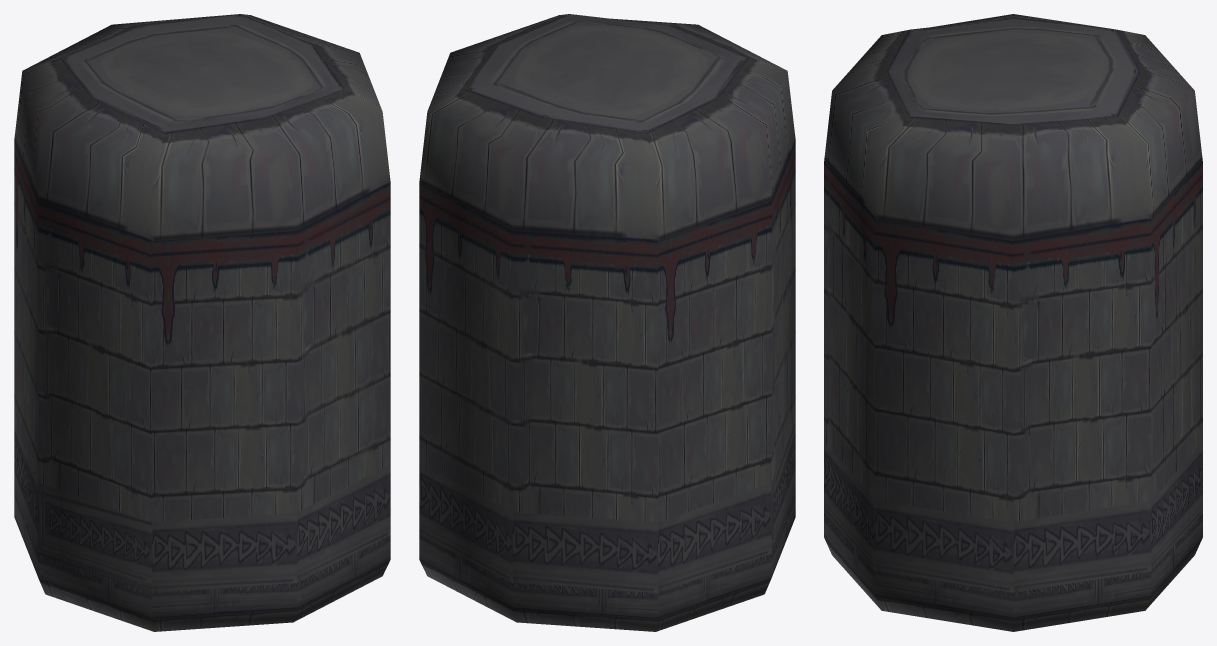
The model's file is Pillar_Round_02.glb.
3 views of the same model, side by side, from view 1: azimuth 30°, elevation 25°; view 2: azimuth 150°, elevation 25°; view 3: azimuth 270°, elevation 25° (orthographic).
Visible parts, largest first — view 1: Plane.022; view 2: Plane.022; view 3: Plane.022.
Part boxes in pixels (x1,y1,x2,y2): Plane.022: (14,14,390,631); Plane.022: (419,14,795,631); Plane.022: (824,14,1202,631).
Size of the model in its own units: 3.71 by 5.47 by 3.71.
1 material, 1 textured.
